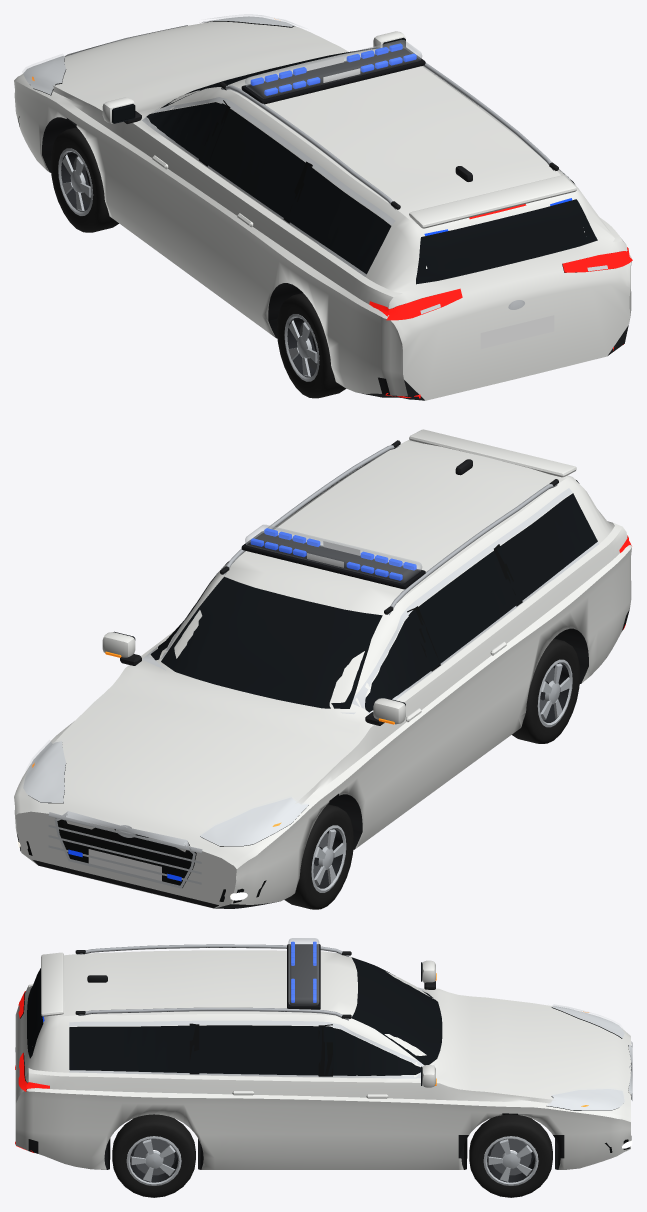
File: garda.glb
The picture shows the model from 3 angles, top to bottom: view 1: azimuth 30°, elevation 25°; view 2: azimuth 150°, elevation 25°; view 3: azimuth 270°, elevation 25°; orthographic projection. The views are drawn at different scales.
Visible parts, largest first — view 1: body, side_glass_-1, rear_screen, wheel_rear_l, wheel_front_l, lightbar_housing, spoiler, lightbar_base, dlo_chrome_-1, plate_rear, tail_-1, head_refl_-1 (+6 smaller); view 2: body, windscreen, side_glass_-1, wheel_front_l, wheel_rear_l, lightbar_housing, grille_black, lightbar_base, head_refl_-1, head_lens_-1, spoiler, head_refl_1 (+10 smaller); view 3: body, side_glass_1, wheel_front_r, wheel_rear_r, windscreen, lightbar_housing, lightbar_base, dlo_chrome_1, spoiler, head_refl_1, head_lens_1, rail_1 (+6 smaller).
Boxes of the visible parts, <box> form: body: <box>14,21,631,400</box>; side_glass_-1: <box>146,102,391,274</box>; rear_screen: <box>416,199,597,284</box>; wheel_rear_l: <box>277,293,346,398</box>; wheel_front_l: <box>50,127,118,232</box>; lightbar_housing: <box>245,40,422,98</box>; spoiler: <box>409,175,576,228</box>; lightbar_base: <box>241,46,425,104</box>; dlo_chrome_-1: <box>151,97,395,224</box>; plate_rear: <box>480,315,554,349</box>; tail_-1: <box>386,288,462,320</box>; head_refl_-1: <box>23,56,65,94</box>; body: <box>14,439,631,908</box>; windscreen: <box>161,576,382,708</box>; side_glass_-1: <box>365,493,597,712</box>; wheel_front_l: <box>284,804,353,909</box>; wheel_rear_l: <box>512,638,580,743</box>; lightbar_housing: <box>245,524,422,582</box>; grille_black: <box>57,819,196,887</box>; lightbar_base: <box>241,531,425,589</box>; head_refl_-1: <box>200,797,308,846</box>; head_lens_-1: <box>200,796,308,844</box>; spoiler: <box>409,429,576,477</box>; head_refl_1: <box>23,741,65,802</box>; body: <box>15,950,630,1169</box>; side_glass_1: <box>69,1025,420,1075</box>; wheel_front_r: <box>469,1114,552,1197</box>; wheel_rear_r: <box>112,1114,195,1197</box>; windscreen: <box>351,957,442,1065</box>; lightbar_housing: <box>288,938,319,1005</box>; lightbar_base: <box>287,944,320,1009</box>; dlo_chrome_1: <box>69,1020,423,1066</box>; spoiler: <box>41,952,63,1016</box>; head_refl_1: <box>547,1089,624,1110</box>; head_lens_1: <box>548,1088,624,1108</box>; rail_1: <box>78,1007,349,1020</box>.
Size of the model in its own units: 2.11 by 1.56 by 4.8.
